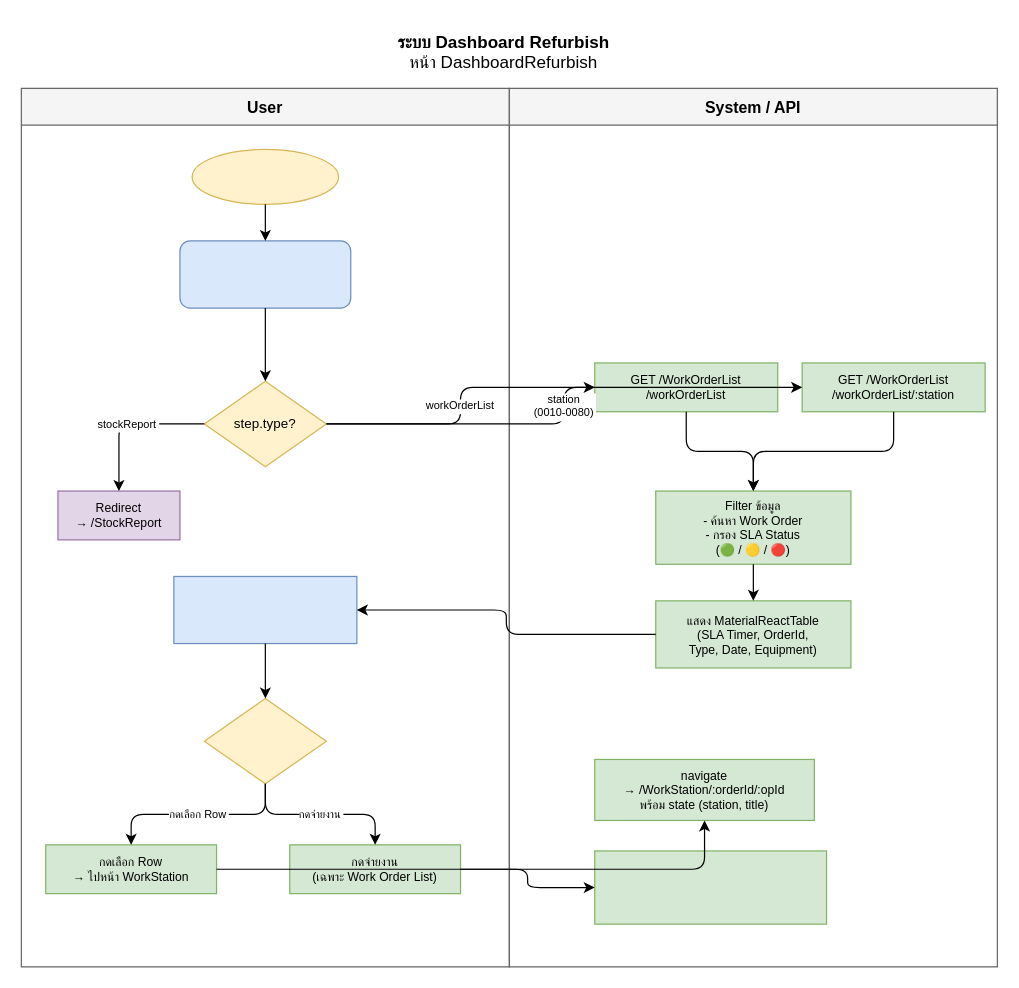
Image size: 1019x988. Some labels were removed from this diagram. The centre of each missing label's shape, as x and y in pixels:
User Action?: [264,740]
วนลูป POST /WorkOrderList/StartWorkOrder → จ่ายงานทีละ Order → Reload ข้อมูลใหม่: [710,887]
เข้าหน้า DashboardRefurbish (รับ step จาก state): [265,274]
เริ่มต้น: [265,176]
แสดงตาราง Work Order (MaterialReactTable) + ค้นหา + Filter SLA: [265,609]
